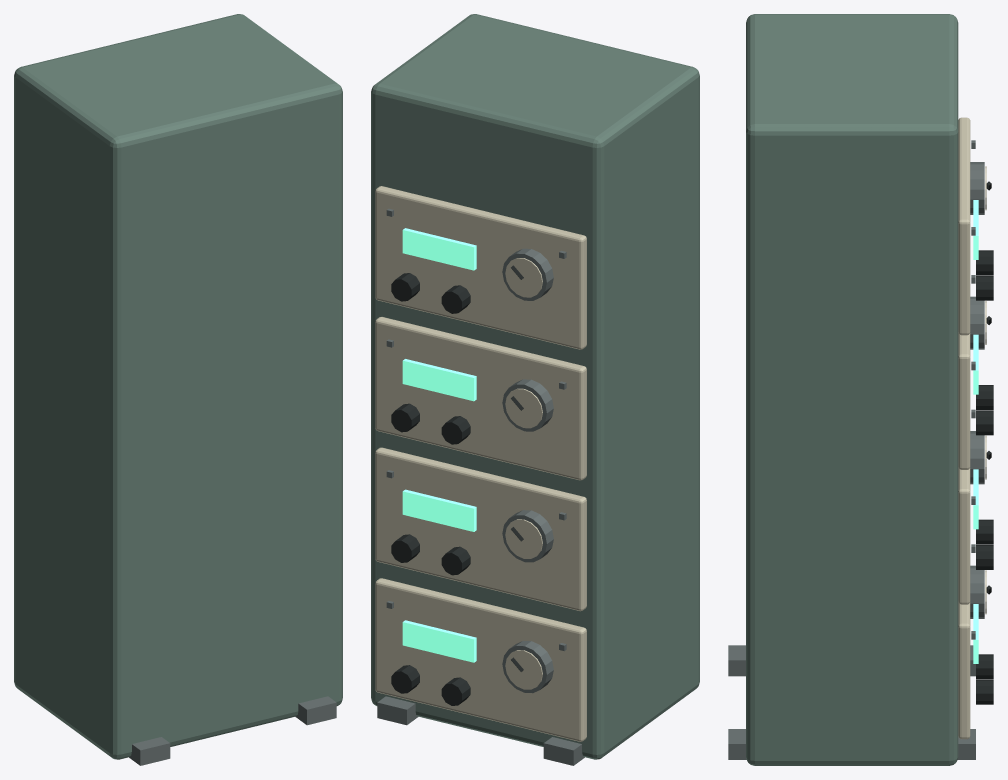
File: radio_rack.glb
The picture shows the model from 3 angles, left to right: view 1: azimuth 30°, elevation 25°; view 2: azimuth 150°, elevation 25°; view 3: azimuth 270°, elevation 25°; orthographic projection. The views are drawn at different scales.
Parts seen in each view (by area): view 1: radio_rack; view 2: radio_rack; view 3: radio_rack.
Boxes of the visible parts, bbox=[...] form: radio_rack: bbox=[14, 14, 342, 765]; radio_rack: bbox=[371, 14, 699, 765]; radio_rack: bbox=[728, 14, 993, 765].
Bounding box in the file's own units: 0.78 × 2 × 0.75.
